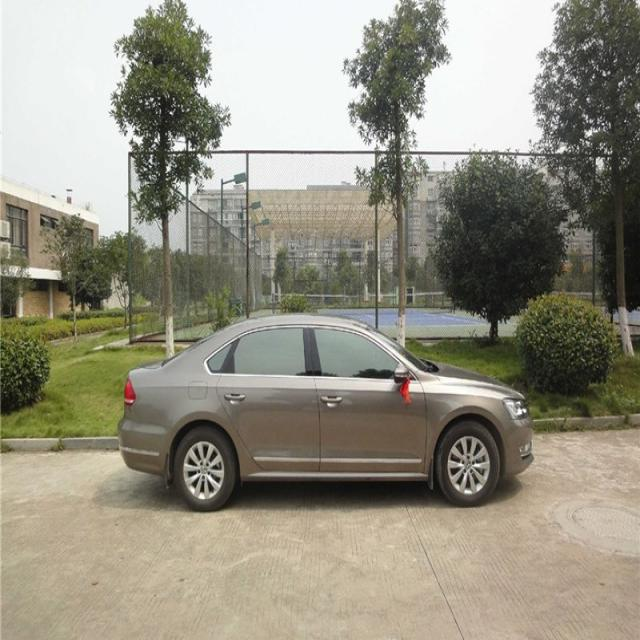back_right_side_light: (124, 379, 137, 411)
door: (214, 326, 320, 480)
front_bumper: (494, 412, 534, 482)
front_right_side_door: (306, 323, 428, 476)
front_right_side_light: (500, 396, 530, 420)
front_right_side_mirror: (392, 359, 411, 386)
rear_bumper: (118, 403, 172, 483)
wheel: (434, 420, 499, 506), (174, 426, 235, 512)
